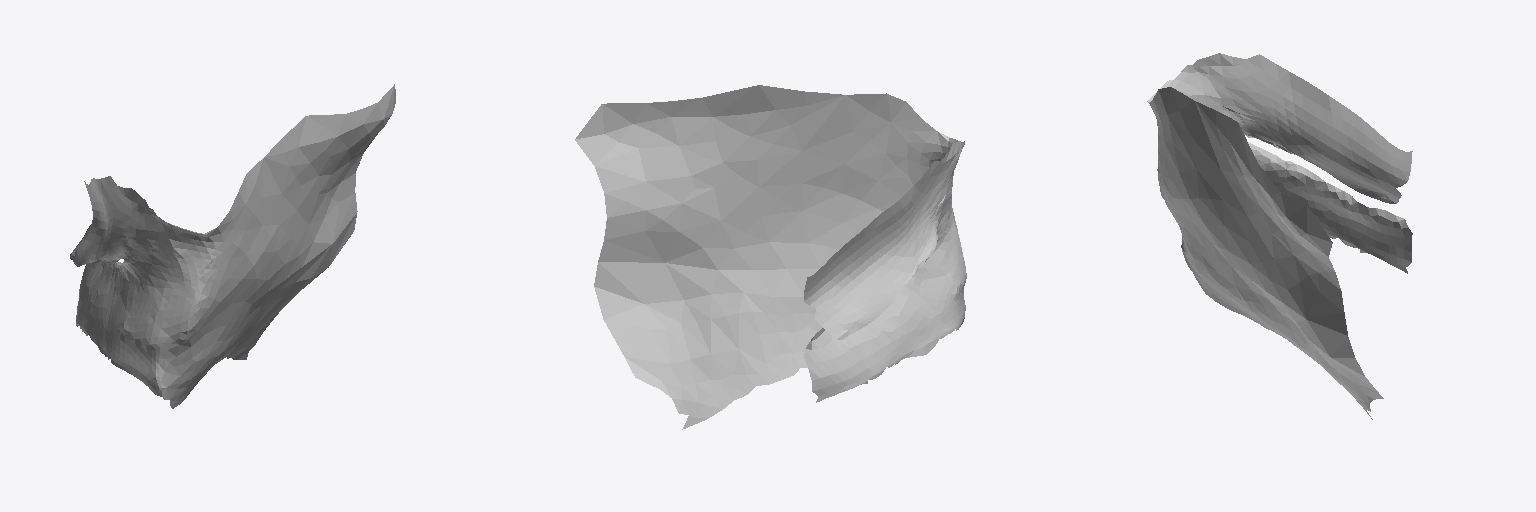
The model's file is LmaxillaFace.obj.
3 views of the same model, side by side, from view 1: azimuth 30°, elevation 25°; view 2: azimuth 150°, elevation 25°; view 3: azimuth 270°, elevation 25° (orthographic).
Parts seen in each view (by area): view 1: unilatCompleteCleft_deepBed; view 2: unilatCompleteCleft_deepBed; view 3: unilatCompleteCleft_deepBed.
Part boxes in pixels (x1,y1,x2,y2): unilatCompleteCleft_deepBed: (70, 84, 395, 408); unilatCompleteCleft_deepBed: (575, 85, 966, 429); unilatCompleteCleft_deepBed: (1147, 53, 1412, 419).
Size of the model in its own units: 1.35 by 1.15 by 0.9296.